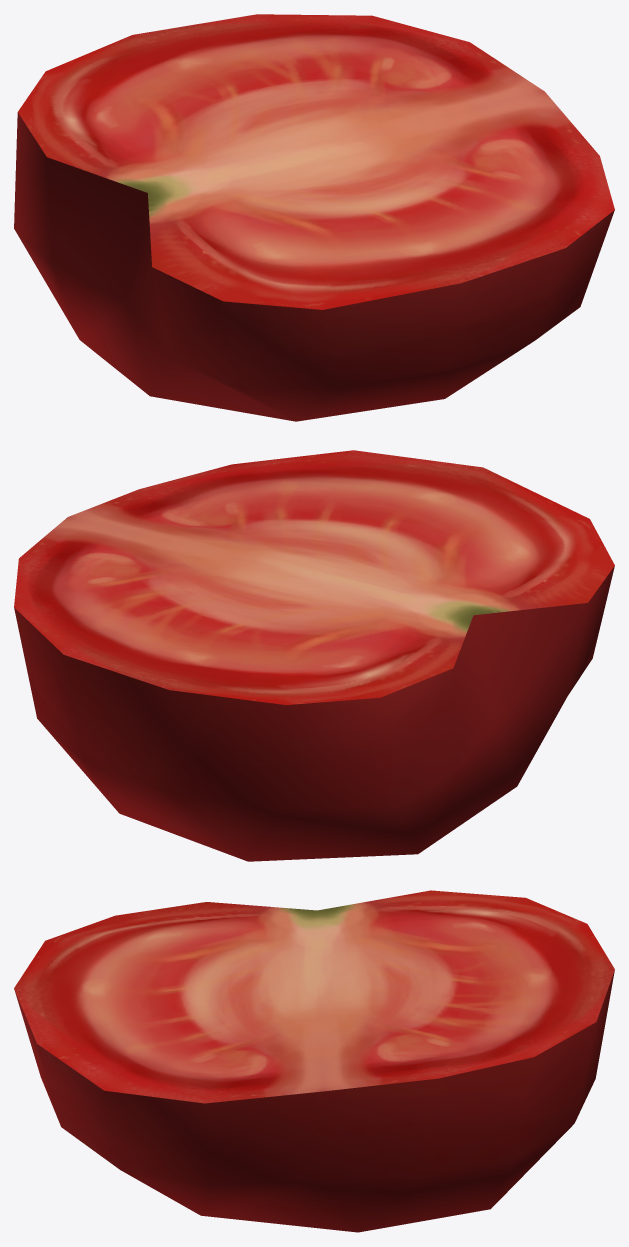
File: tomatohalf.fbx
3 renders of one model, top to bottom at view 1: azimuth 30°, elevation 25°; view 2: azimuth 150°, elevation 25°; view 3: azimuth 270°, elevation 25°, orthographic. The views are drawn at different scales.
Visible parts, largest first — view 1: tomatohalf; view 2: tomatohalf; view 3: tomatohalf.
Part boxes in pixels (x1,y1,x2,y2): tomatohalf: (14, 14, 614, 421); tomatohalf: (14, 450, 614, 861); tomatohalf: (14, 890, 614, 1232).
Bounding box in the file's own units: 13.86 × 6.78 × 16.93.
